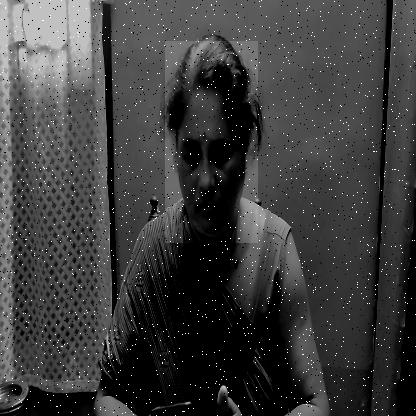Distracted: (165, 41, 258, 243)
